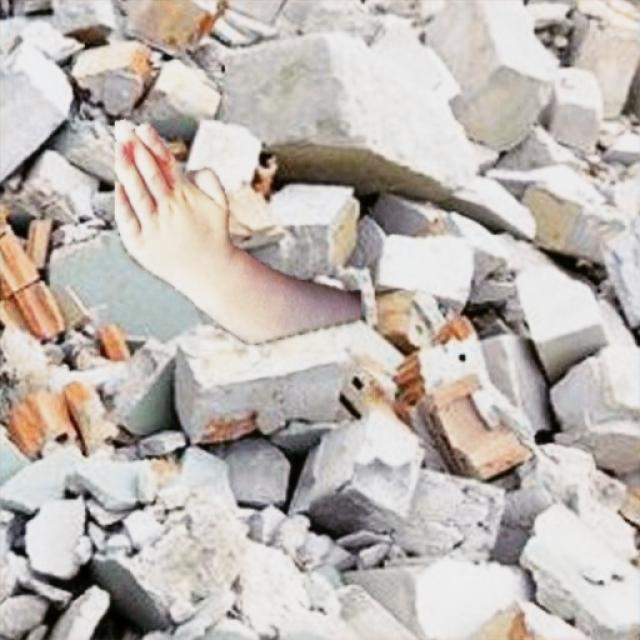Person in Rubble: (115, 119, 360, 344)
